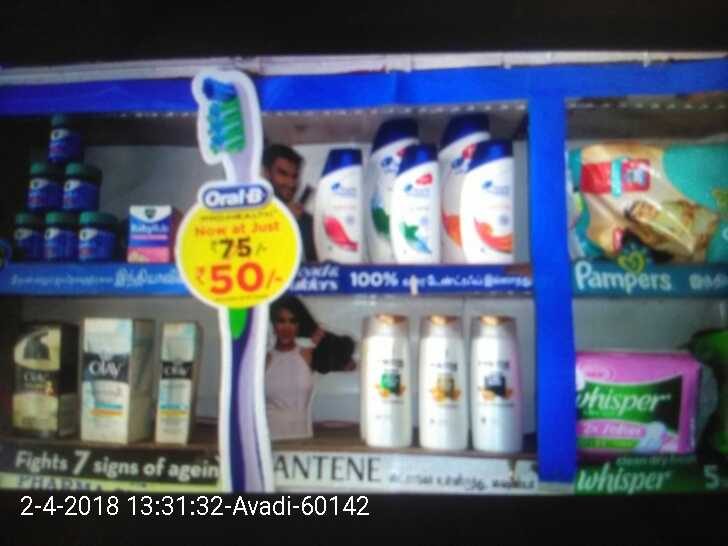vicks: (15, 111, 181, 265)
